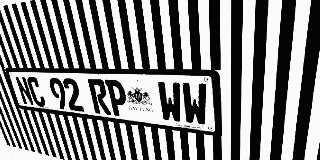2: (61, 78, 84, 112)
9: (48, 78, 70, 110)
C: (26, 77, 47, 107)
N: (14, 76, 35, 106)
P: (105, 80, 129, 117)
R: (87, 79, 111, 115)
W: (181, 82, 208, 127), (157, 81, 183, 124)
